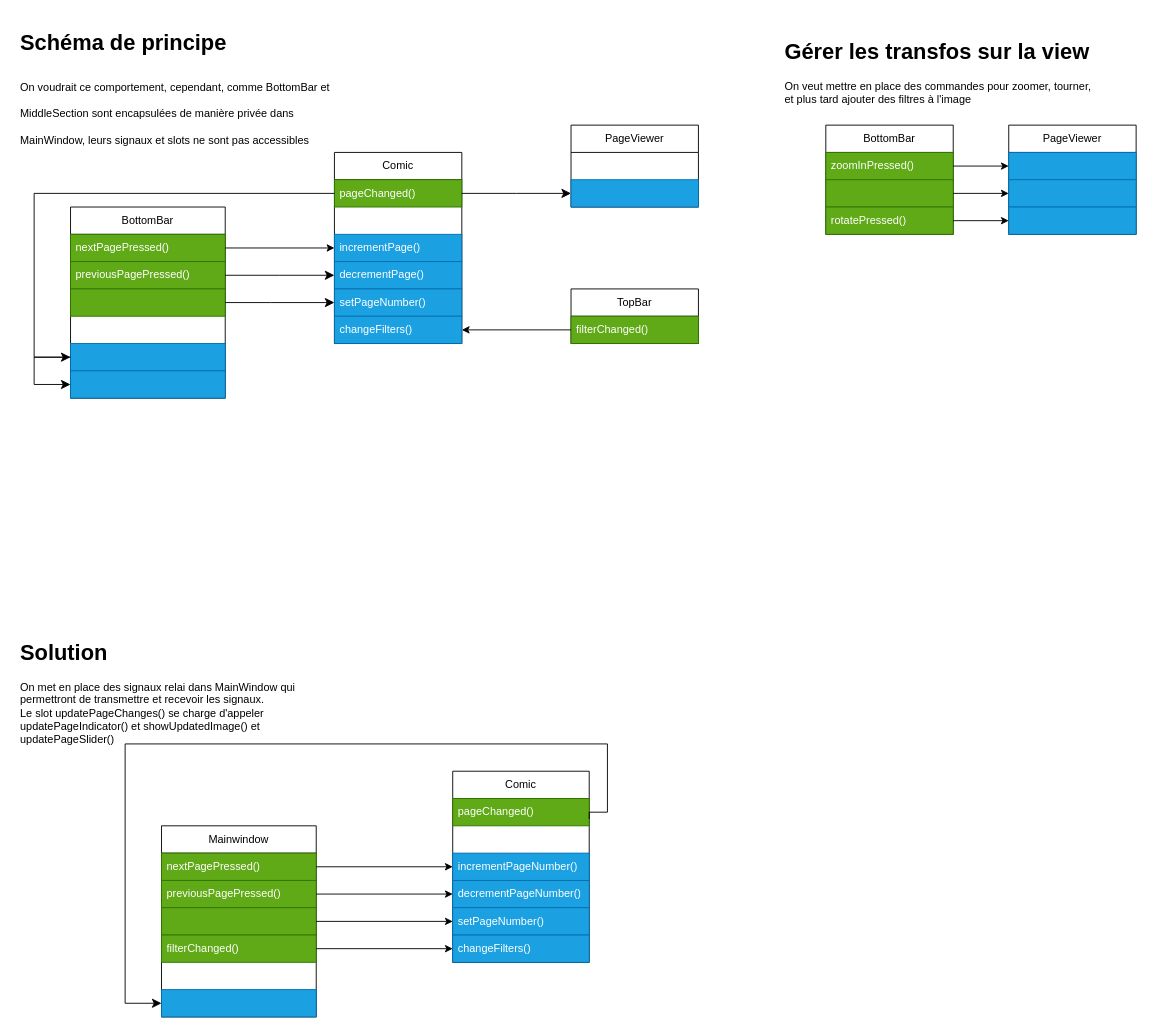
Some shapes in this 1152 by 1033 pixel diagram are drawn without their labels. Each missing label, with the centre of its shape:
pageSliderValueChanged(): the point at 147,302
rotateImage(): the point at 1072,220
showImage(): the point at 634,193
sliderPageValueChanged(): the point at 238,921
updatePageChanges(): the point at 238,1003
updatePageIndicator(): the point at 147,357
updatePageSlider(): the point at 147,384
zoomIn(): the point at 1072,166
zoomOut(): the point at 1072,193
zoomOutPressed(): the point at 889,193
